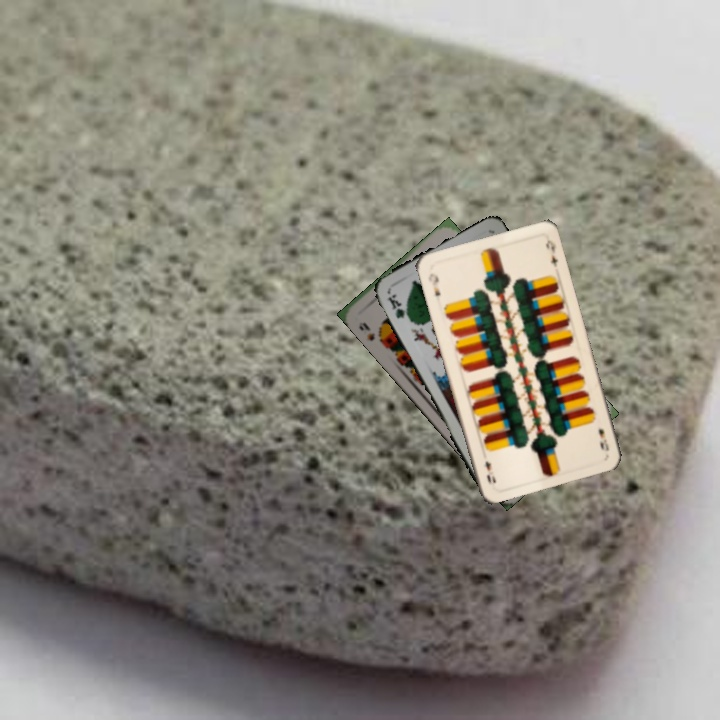E9: (424, 269, 443, 299), (594, 424, 612, 453)
GK: (383, 290, 413, 323)
S9: (355, 318, 387, 347)
